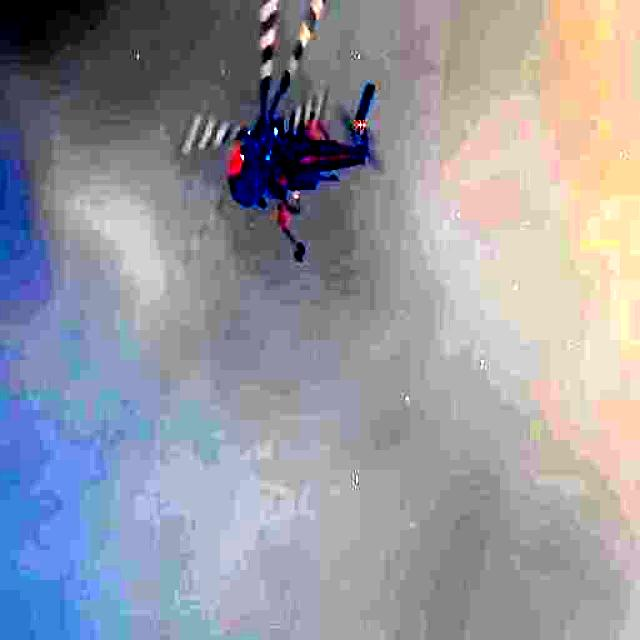drone: (191, 19, 400, 268)
